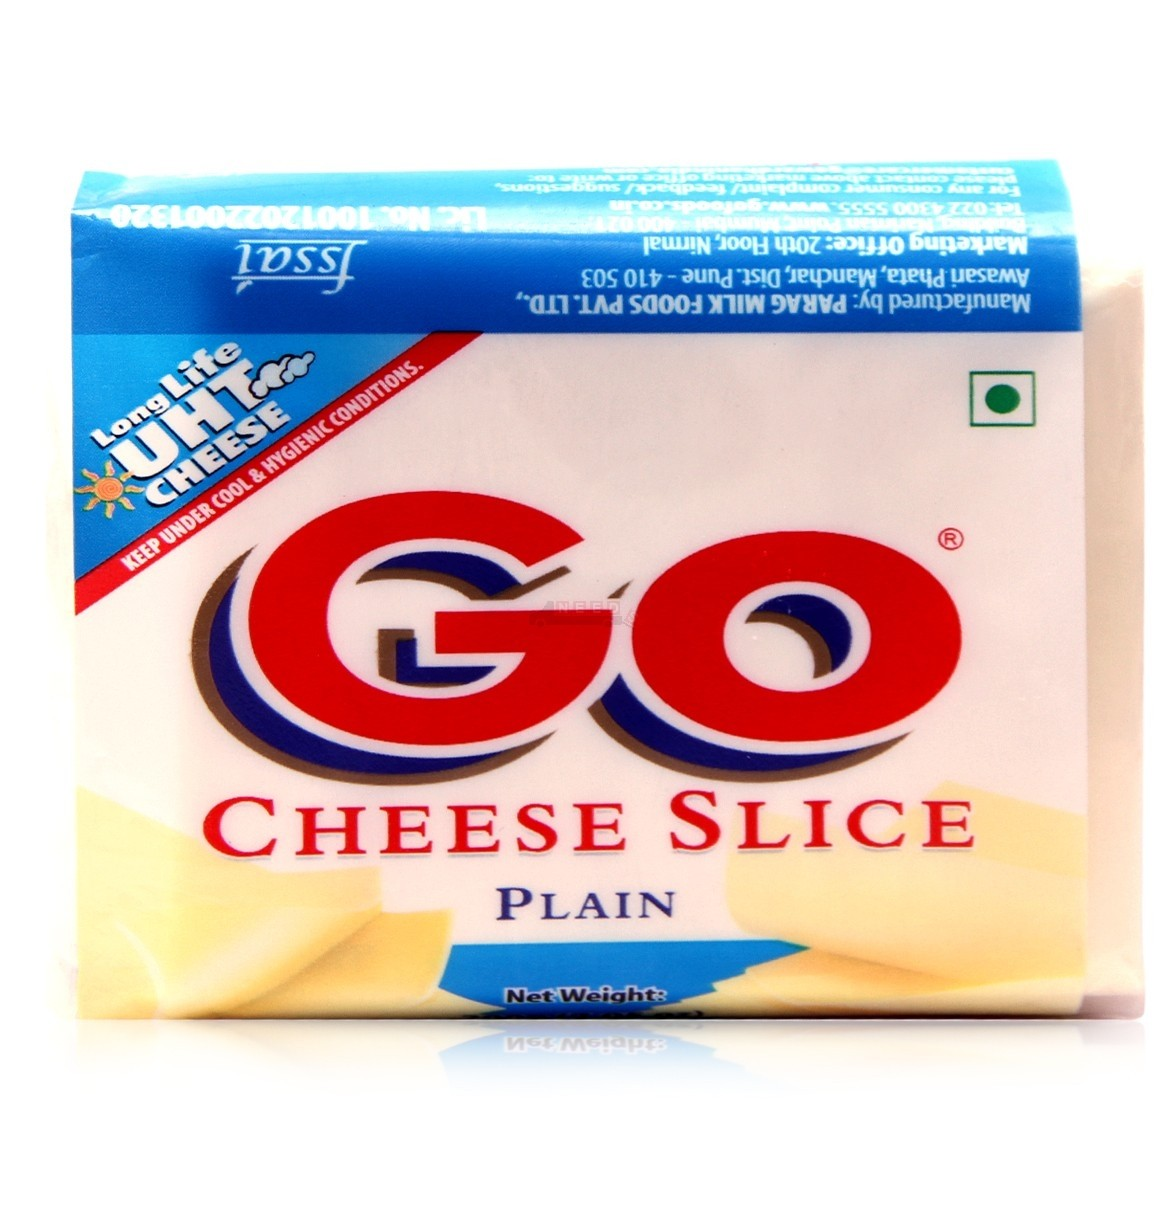VEG: (966, 365, 1040, 431)
